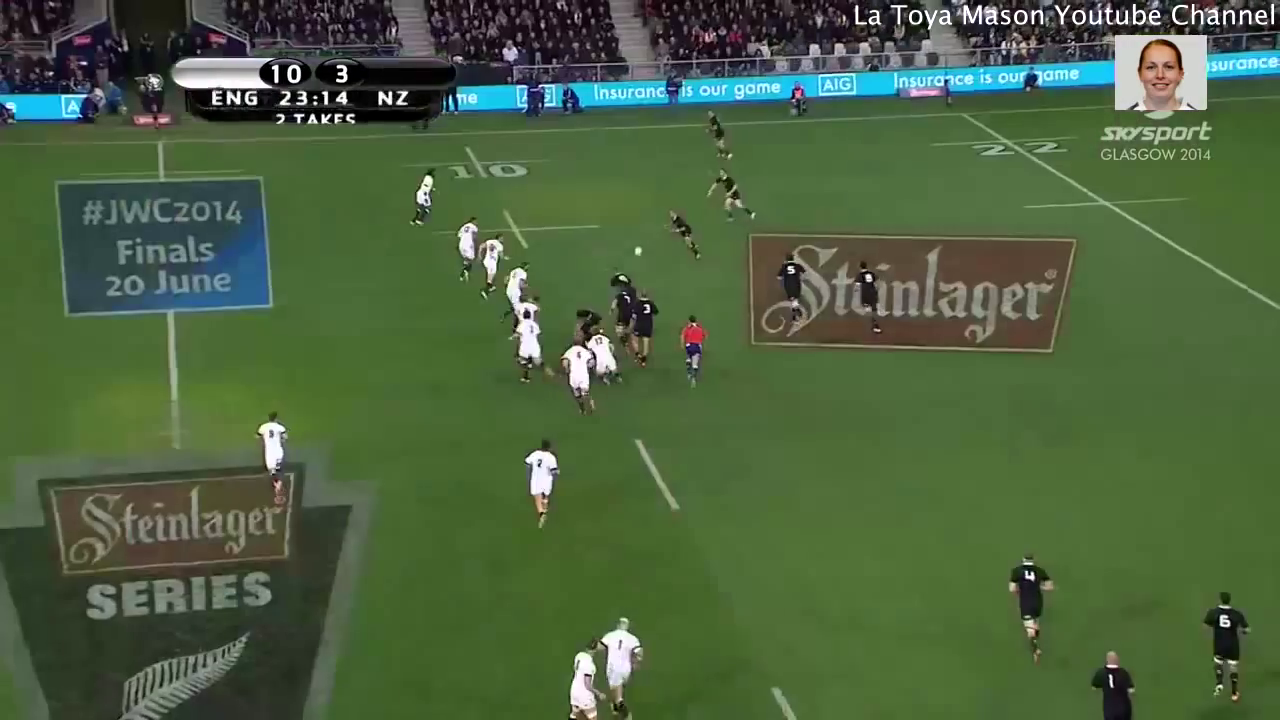10_metre: (433, 202, 600, 248), (407, 143, 554, 180)
ball: (633, 242, 642, 263)
player: (1196, 584, 1254, 707), (1007, 542, 1052, 670), (599, 615, 653, 720), (1087, 647, 1146, 720), (257, 408, 295, 506), (554, 333, 597, 417), (520, 437, 561, 524), (513, 308, 556, 386), (561, 643, 601, 720), (708, 169, 759, 224), (774, 255, 812, 327), (630, 288, 661, 372), (671, 314, 706, 388), (695, 109, 739, 160), (668, 208, 706, 267), (451, 215, 481, 286), (409, 164, 440, 229), (605, 284, 638, 344), (586, 333, 623, 383), (481, 231, 508, 299), (856, 263, 882, 332), (503, 260, 532, 316), (573, 304, 605, 344), (511, 293, 540, 315)
